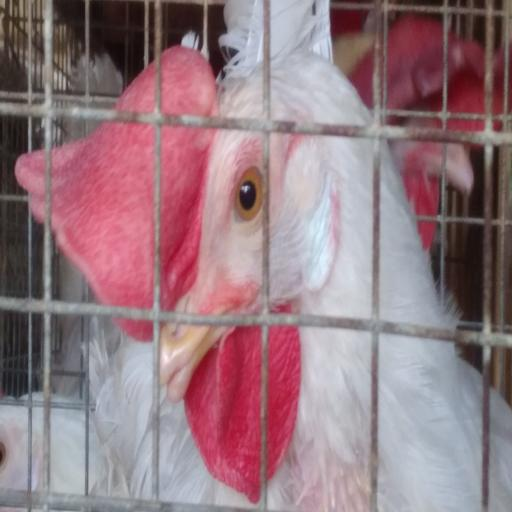healthy: (158, 87, 344, 356)
